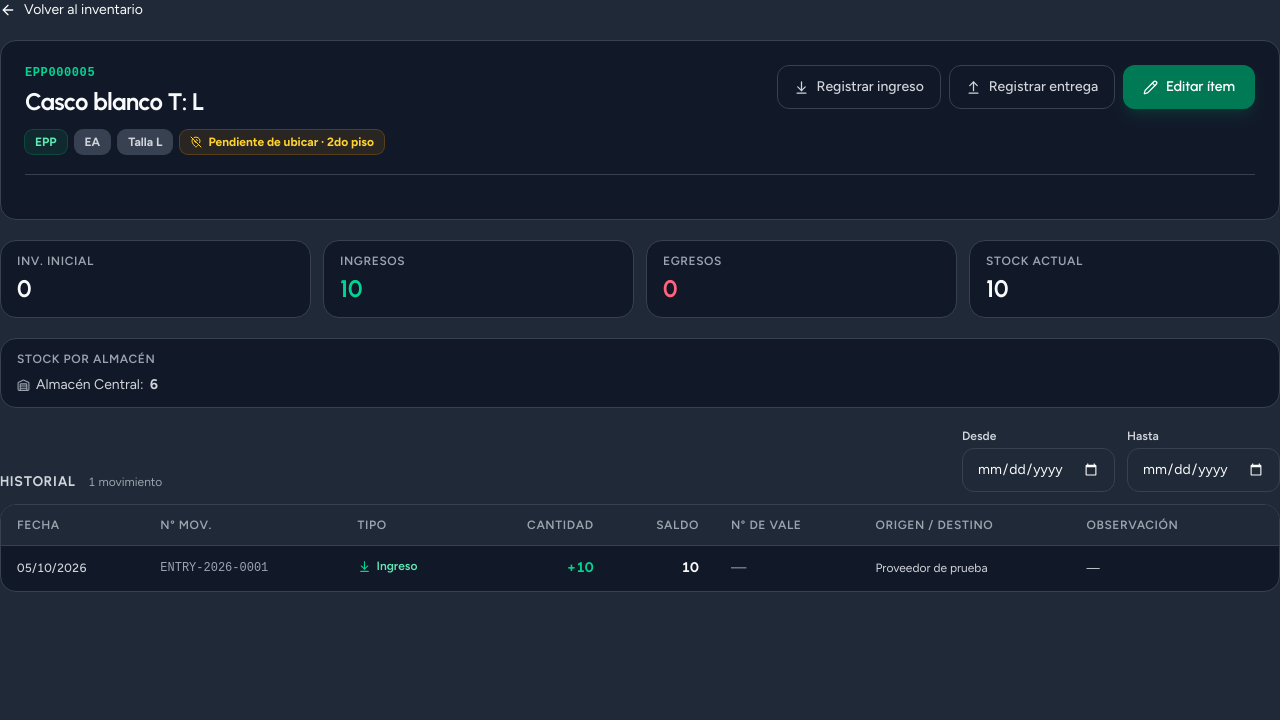
Test: KardexPage — rótulos y permiso de ubicación › SITE_WAREHOUSE edita el ítem con el almacenamiento en solo lectura (el servidor rechazaría un cambio de piso)
Expected: the table is shown, [1, 505, 1279, 590]
Click the button "Editar ítem".
click(1189, 87)  # box [1123, 65, 1255, 109]
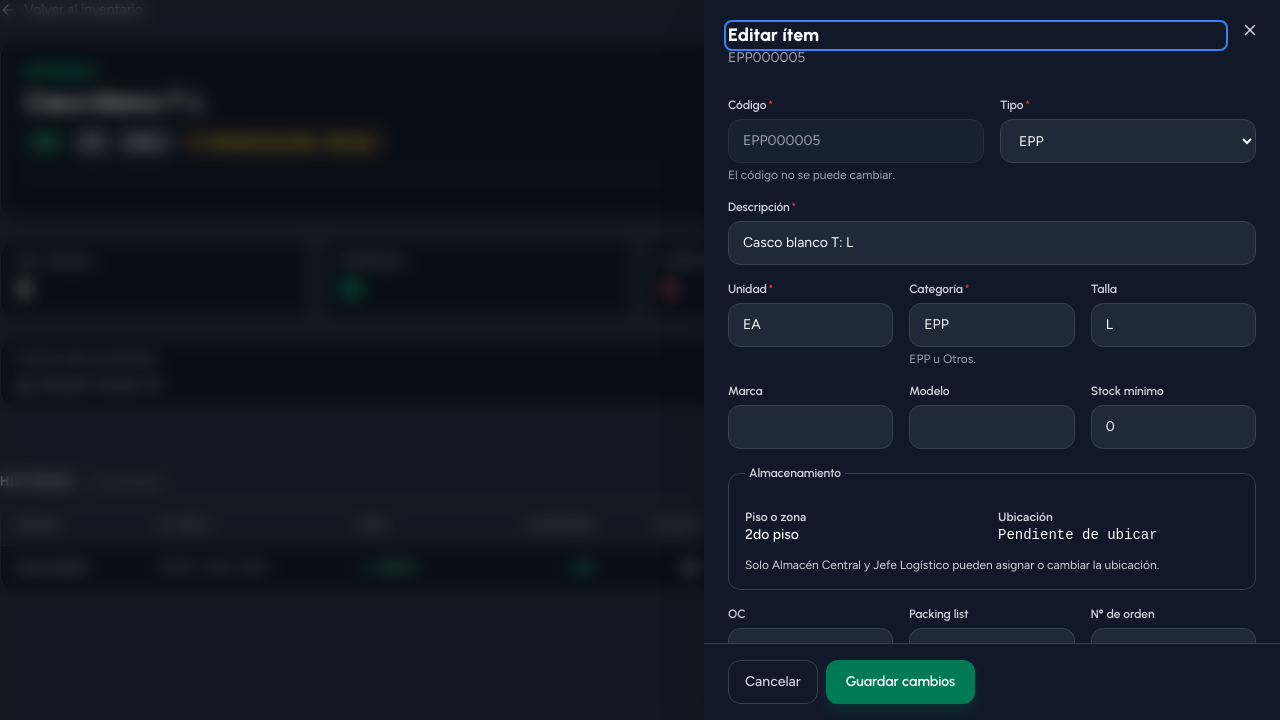
Now the text "Solo Almacén Central y Jefe Logístico" is shown, box [745, 558, 1159, 572]
